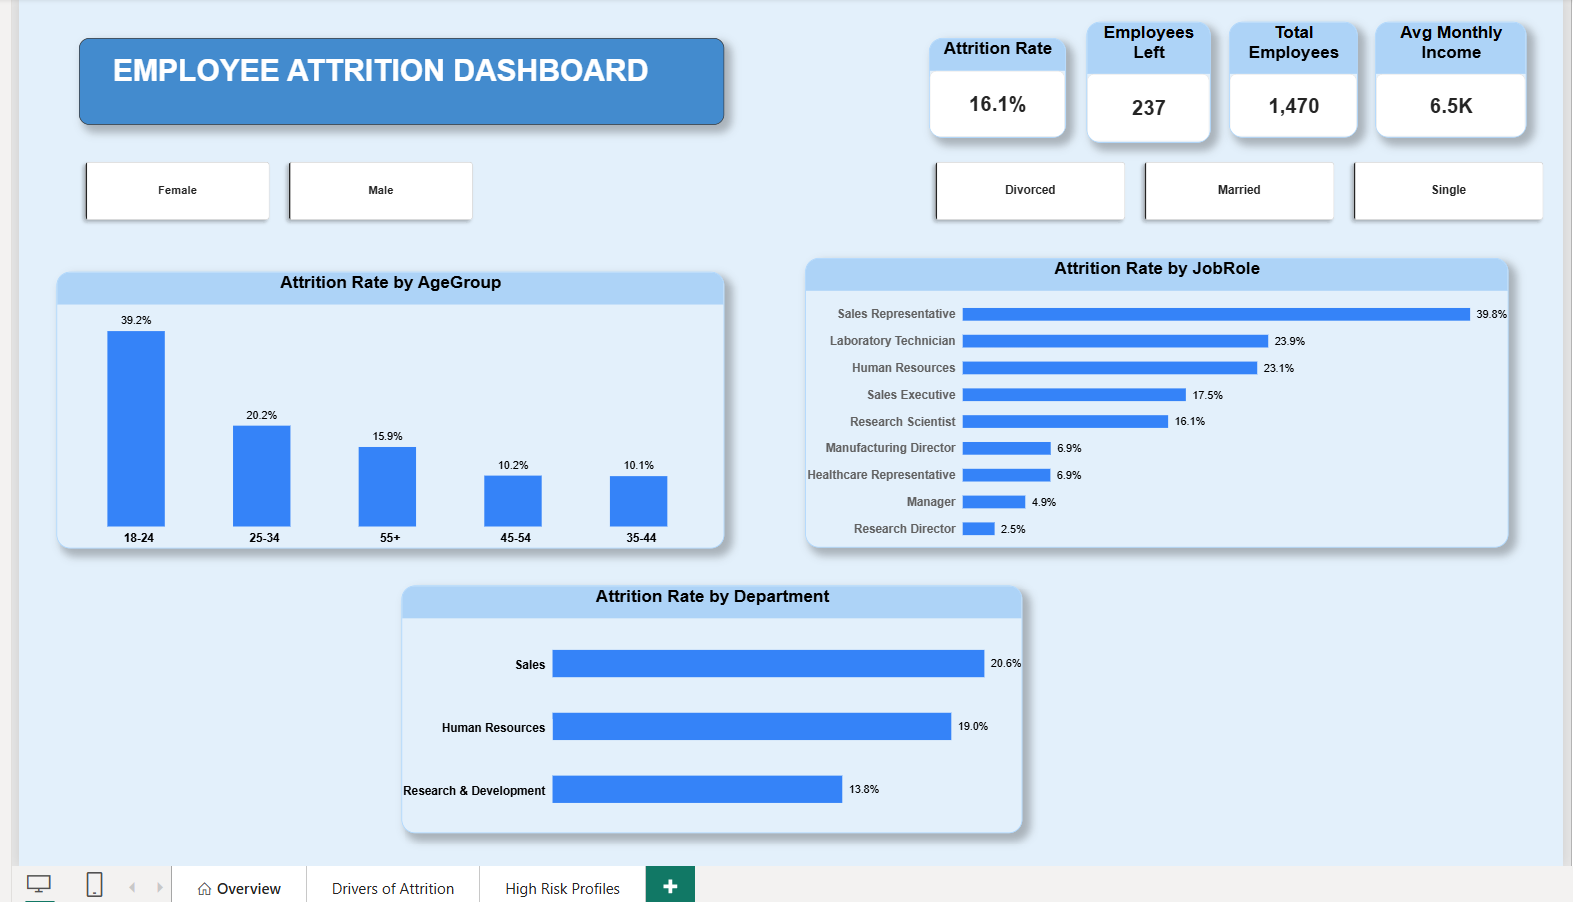

The page's visual inventory and layout, read from the dashboard file:
{"tool":"powerbi","page":{"name":"Overview","canvas":[1920,1080],"ordinal":0},"visuals":[{"type":"cardVisual","title":"Employees Left","fields":{"Data":["Data.Attrition Count"]},"box":[1328,30,154,150],"z":0},{"type":"cardVisual","title":"Total Employees","fields":{"Data":["Data.Total Employees"]},"box":[1504,30,160,144],"z":1000},{"type":"cardVisual","title":"Avg Monthly Income","fields":{"Data":["Data.Avg Monthly Income"]},"box":[1686,30,188,144],"z":2000},{"type":"cardVisual","title":"Attrition Rate","fields":{"Data":["Data.Attrition Rate"]},"box":[1132,50,170,124],"z":3000},{"type":"clusteredBarChart","fields":{"Category":["Data.Department"],"Y":["Data.Attrition Rate"]},"box":[476,730,772,308],"z":4000},{"type":"clusteredBarChart","fields":{"Category":["Data.JobRole"],"Y":["Data.Attrition Rate"]},"box":[978,324,874,360],"z":5000},{"type":"clusteredColumnChart","fields":{"Category":["Data.AgeGroup"],"Y":["Data.Attrition Rate"]},"box":[46,340,830,344],"z":6000},{"type":"advancedSlicerVisual","fields":{"Values":["Data.Gender"]},"box":[74,196,498,88],"z":7000},{"type":"advancedSlicerVisual","fields":{"Values":["Data.MaritalStatus"]},"box":[1132,196,772,88],"z":8000},{"type":"textbox","box":[74,50,802,108],"z":9000}]}

Visuals, with their boxes on the page's 1920x1080 design canvas (x1, y1, x2, y2). These are canvas units, not pixel positions in the 1573x902 screenshot, which may show the page scaled, cropped or inside an application window:
"Employees Left" cardVisual: <box>1328,30,1482,180</box>
"Total Employees" cardVisual: <box>1504,30,1664,174</box>
"Avg Monthly Income" cardVisual: <box>1686,30,1874,174</box>
"Attrition Rate" cardVisual: <box>1132,50,1302,174</box>
clusteredBarChart - Data.Department x Data.Attrition Rate: <box>476,730,1248,1038</box>
clusteredBarChart - Data.JobRole x Data.Attrition Rate: <box>978,324,1852,684</box>
clusteredColumnChart - Data.AgeGroup x Data.Attrition Rate: <box>46,340,876,684</box>
advancedSlicerVisual - Data.Gender: <box>74,196,572,284</box>
advancedSlicerVisual - Data.MaritalStatus: <box>1132,196,1904,284</box>
textbox: <box>74,50,876,158</box>
